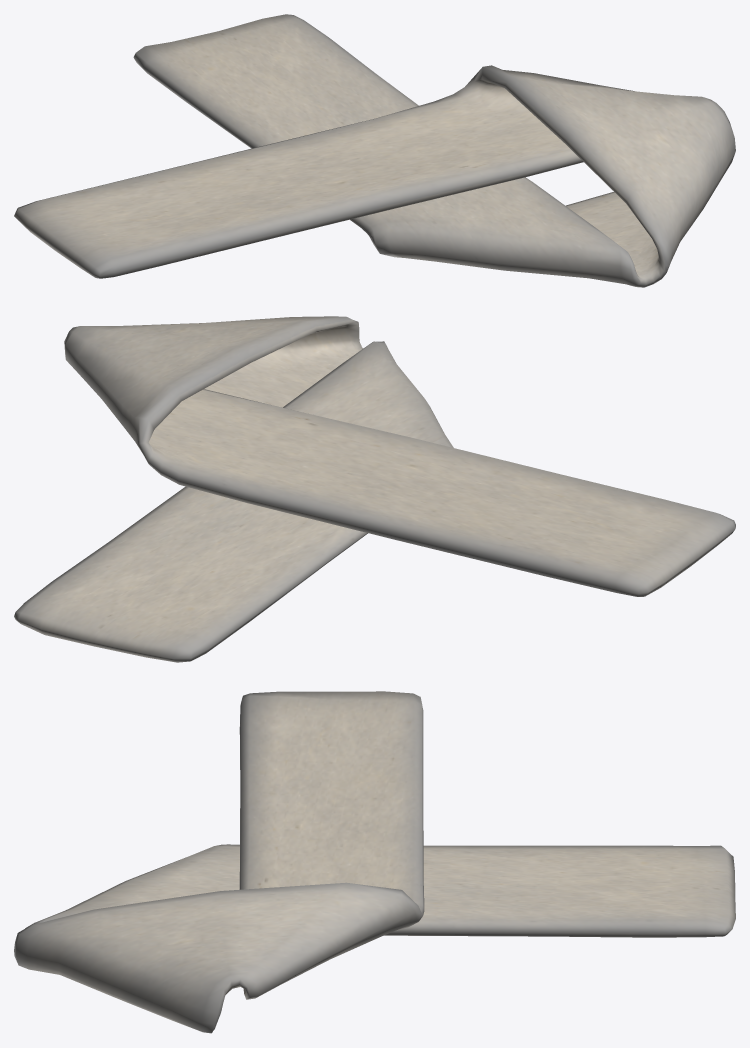
Rendered from foldednote.fbx.
The picture shows the model from 3 angles, top to bottom: view 1: azimuth 30°, elevation 25°; view 2: azimuth 150°, elevation 25°; view 3: azimuth 270°, elevation 25°; orthographic projection. The views are drawn at different scales.
Visible parts, largest first — view 1: note_low; view 2: note_low; view 3: note_low.
Boxes of the visible parts, x1,y1,x2,y2 form: note_low: (14,14,735,287); note_low: (14,316,735,662); note_low: (14,691,735,1033).
Bounding box in the file's own units: 91.04 × 12.68 × 87.71.
